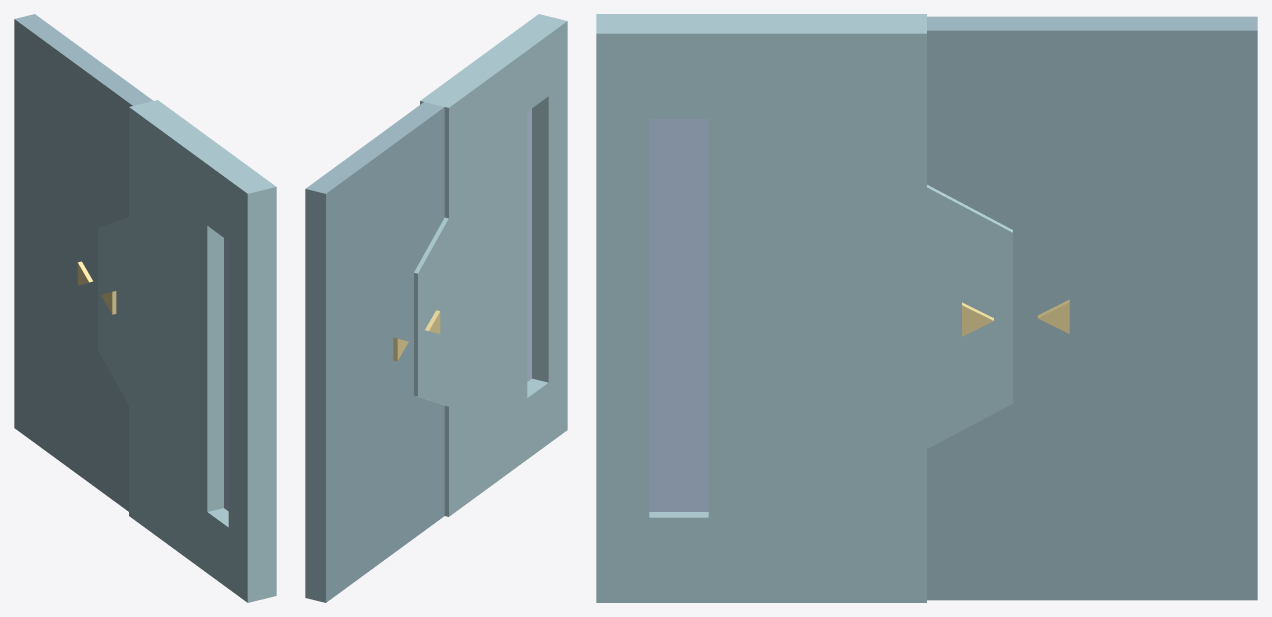
Rendered from door-01b.fbx.
3 views of the same model, side by side, from view 1: azimuth 30°, elevation 25°; view 2: azimuth 150°, elevation 25°; view 3: azimuth 270°, elevation 25° (orthographic). The views are drawn at different scales.
Visible parts, largest first — view 1: door-01b-L, door-01b-R; view 2: door-01b-L, door-01b-R; view 3: door-01b-L, door-01b-R.
Part boxes in pixels (x1,y1,x2,y2): door-01b-L: (98, 100, 276, 602); door-01b-R: (14, 14, 153, 511); door-01b-L: (414, 14, 567, 516); door-01b-R: (305, 102, 444, 602); door-01b-L: (596, 14, 1012, 602); door-01b-R: (927, 16, 1257, 600).
Bounding box in the file's own units: 9 × 95 × 100.
